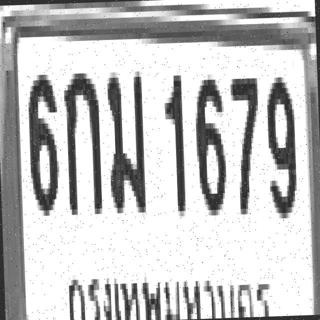A01: (61, 67, 100, 209)
A33: (105, 66, 144, 208)
N01: (162, 70, 184, 211)
N06: (192, 68, 225, 210), (25, 69, 57, 211)
N07: (228, 72, 259, 209)
N09: (264, 71, 296, 213)
P04: (64, 251, 272, 320)
